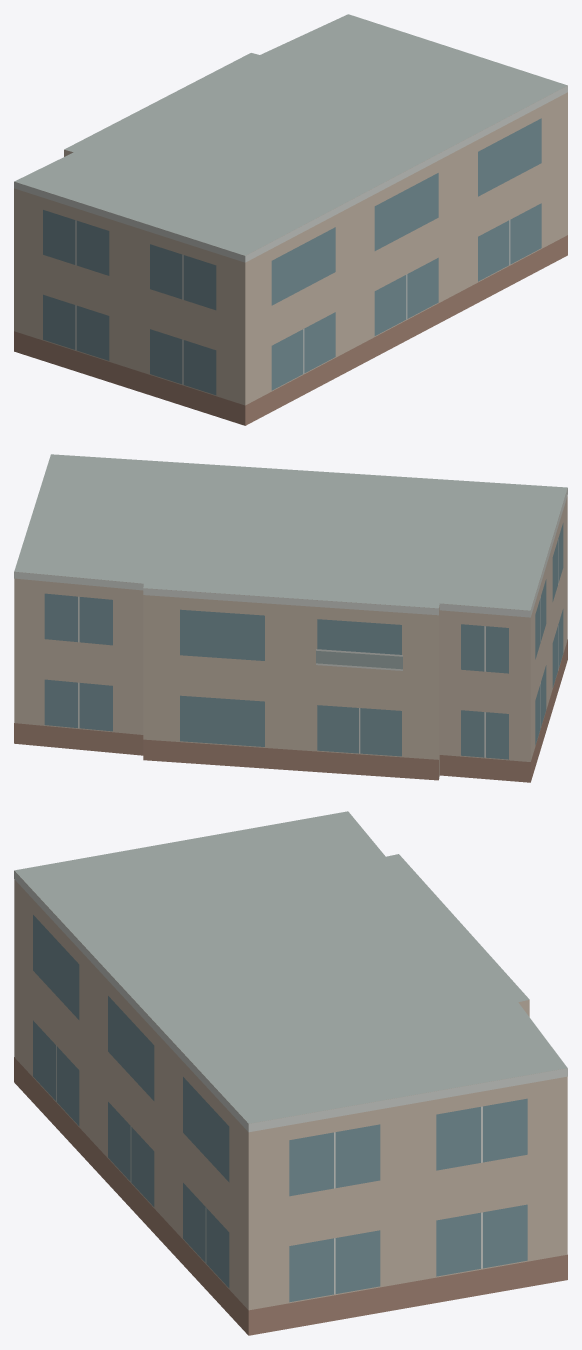
Rendered from survey-upis-32510920.glb.
The picture shows the model from 3 angles, top to bottom: view 1: azimuth 30°, elevation 25°; view 2: azimuth 150°, elevation 25°; view 3: azimuth 270°, elevation 25°; orthographic projection. The views are drawn at different scales.
Parts seen in each view (by area): view 1: survey-upis-32510920.tmp; view 2: survey-upis-32510920.tmp; view 3: survey-upis-32510920.tmp.
Boxes of the visible parts, x1,y1,x2,y2 form: survey-upis-32510920.tmp: [14, 14, 567, 425]; survey-upis-32510920.tmp: [14, 454, 567, 782]; survey-upis-32510920.tmp: [14, 811, 567, 1335].
Bounding box in the file's own units: 19.32 × 6.1 × 14.46.
